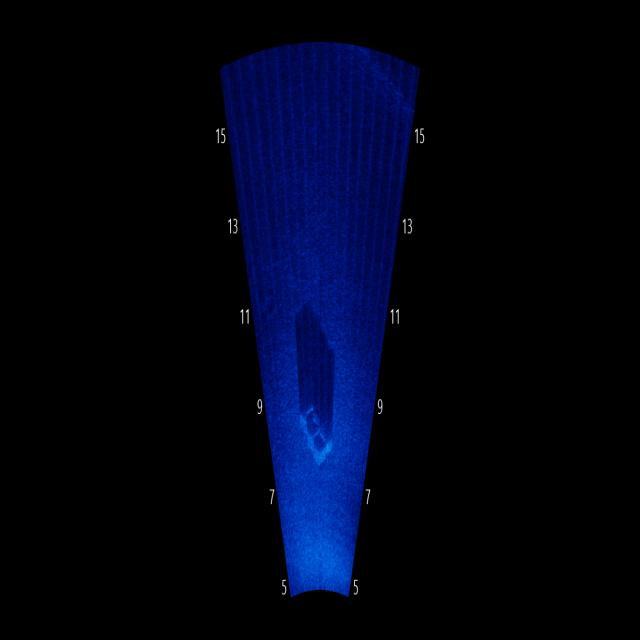square: (296, 402, 341, 474)
